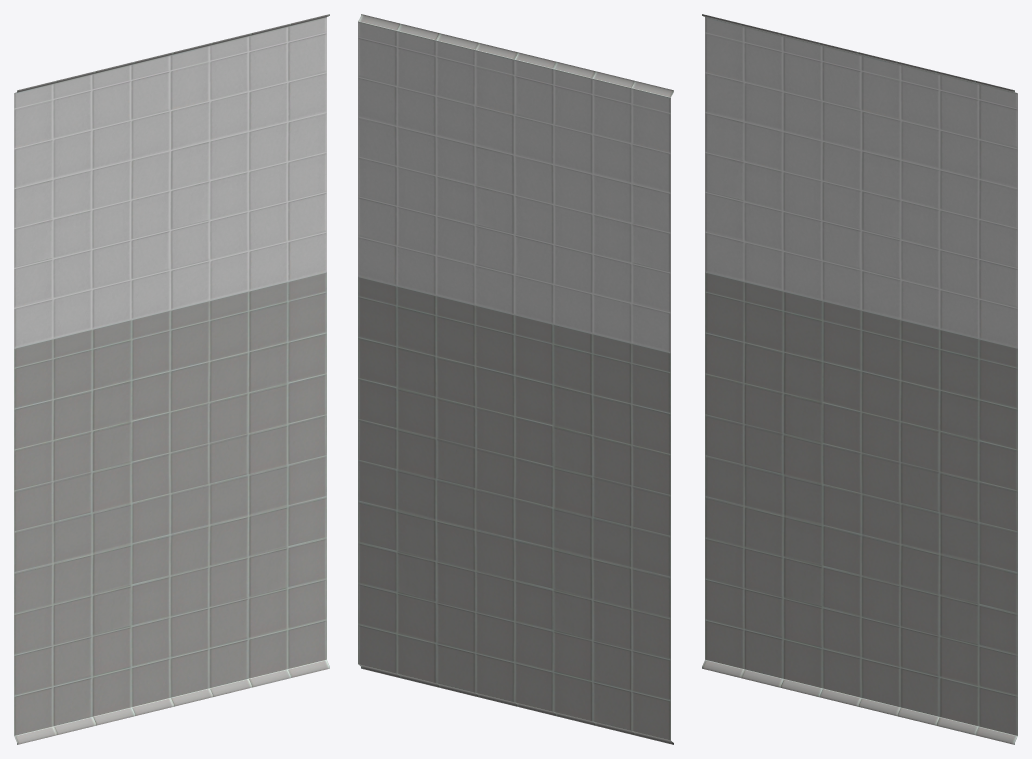
Rendered from bathroom_flat_short.dae.
3 views of the same model, side by side, from view 1: azimuth 30°, elevation 25°; view 2: azimuth 150°, elevation 25°; view 3: azimuth 330°, elevation 25° (orthographic).
Parts seen in each view (by area): view 1: polySurface8; view 2: polySurface8; view 3: polySurface8.
Part boxes in pixels (bbox=[...]): polySurface8: bbox=[14, 14, 329, 744]; polySurface8: bbox=[358, 14, 673, 744]; polySurface8: bbox=[702, 14, 1017, 744].
Bounding box in the file's own units: 2 × 4 × 0.0341.
